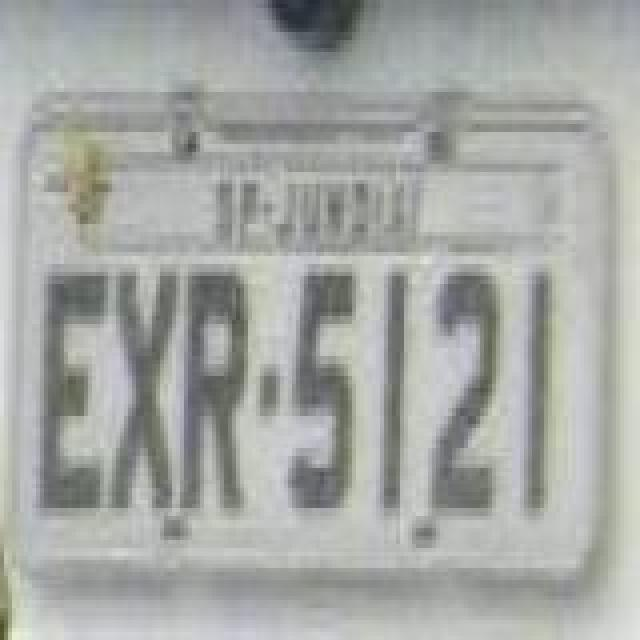1: (376, 266, 408, 518), (520, 266, 552, 518)
2: (428, 256, 500, 512)
5: (286, 266, 354, 518)
E: (38, 266, 106, 518)
R: (182, 256, 250, 512)
X: (110, 266, 178, 518)
